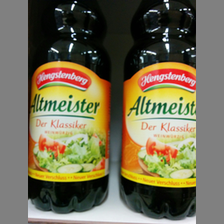vinegar: (29, 2, 113, 214), (122, 1, 198, 220)
